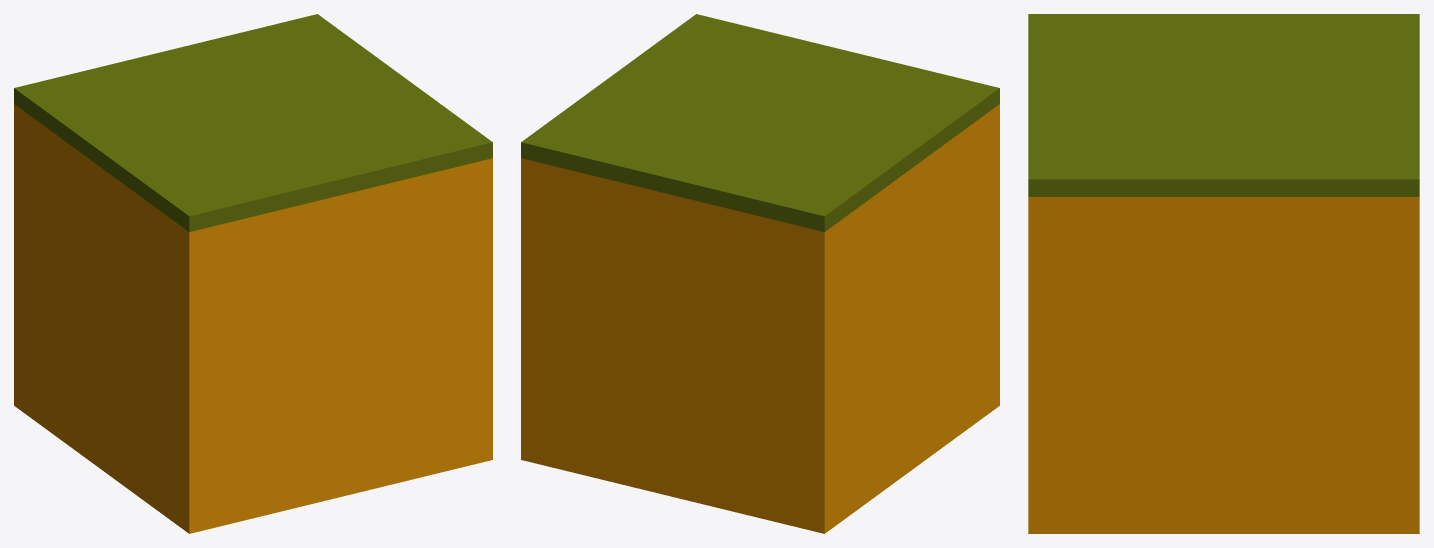
Rendered from FarmEmptyCube.fbx.
3 renders of one model, left to right at view 1: azimuth 30°, elevation 25°; view 2: azimuth 150°, elevation 25°; view 3: azimuth 270°, elevation 25°, orthographic. The views are drawn at different scales.
Parts seen in each view (by area): view 1: FarmEmptyCube; view 2: FarmEmptyCube; view 3: FarmEmptyCube.
Boxes of the visible parts, x1,y1,x2,y2 form: FarmEmptyCube: (14, 14, 492, 533); FarmEmptyCube: (521, 14, 999, 533); FarmEmptyCube: (1028, 14, 1419, 533).
Size of the model in its own units: 1 by 1 by 1.
